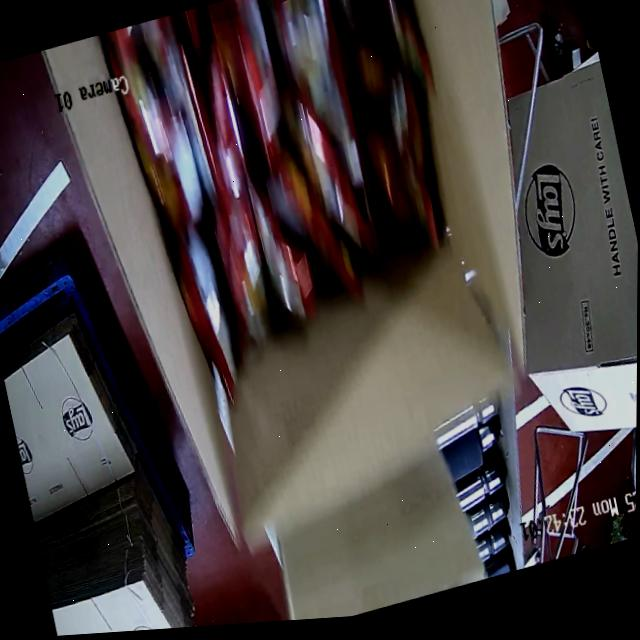MASALA: (98, 0, 478, 411)
